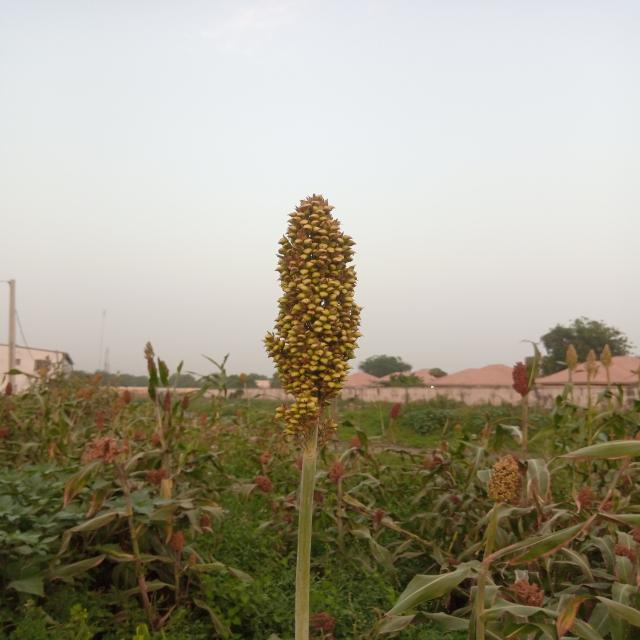UnripeSorghum: (252, 179, 378, 455)
